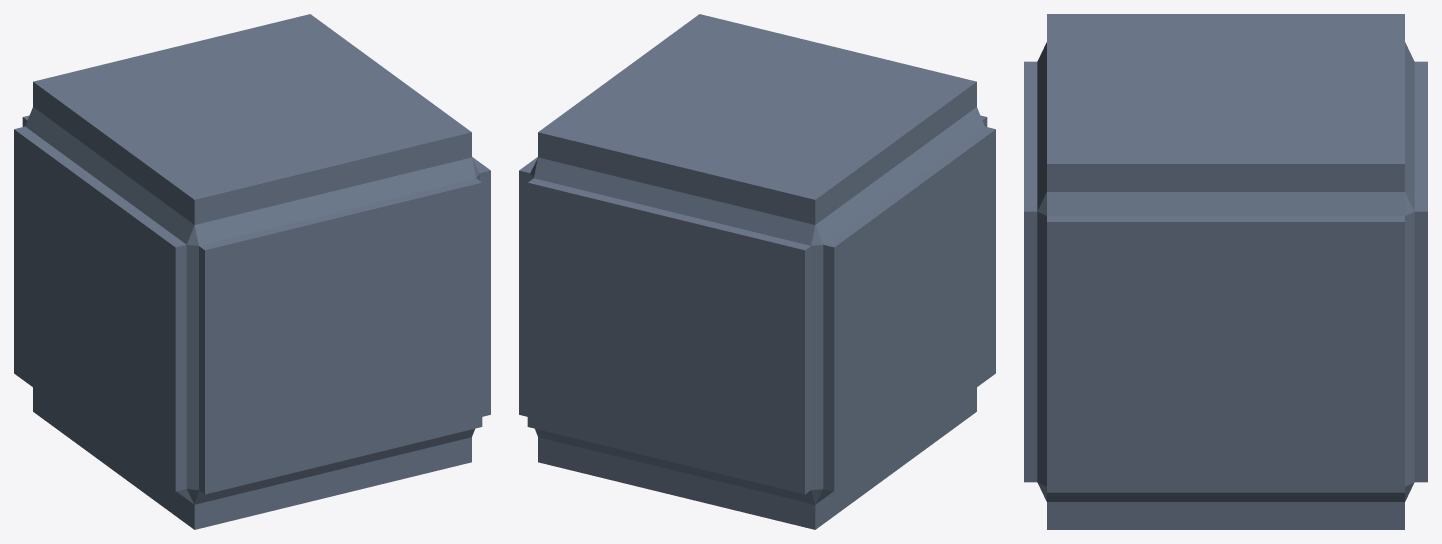
File: bb_comp_Signals_ResponsePad.fbx
3 views of the same model, side by side, from view 1: azimuth 30°, elevation 25°; view 2: azimuth 150°, elevation 25°; view 3: azimuth 270°, elevation 25° (orthographic). The views are drawn at different scales.
Visible parts, largest first — view 1: bb_comp_Signals_ResponsePad; view 2: bb_comp_Signals_ResponsePad; view 3: bb_comp_Signals_ResponsePad.
Part boxes in pixels (<box>): bb_comp_Signals_ResponsePad: <box>14,14,490,529</box>; bb_comp_Signals_ResponsePad: <box>519,14,995,529</box>; bb_comp_Signals_ResponsePad: <box>1024,14,1427,529</box>.
Size of the model in its own units: 1 by 1 by 1.
